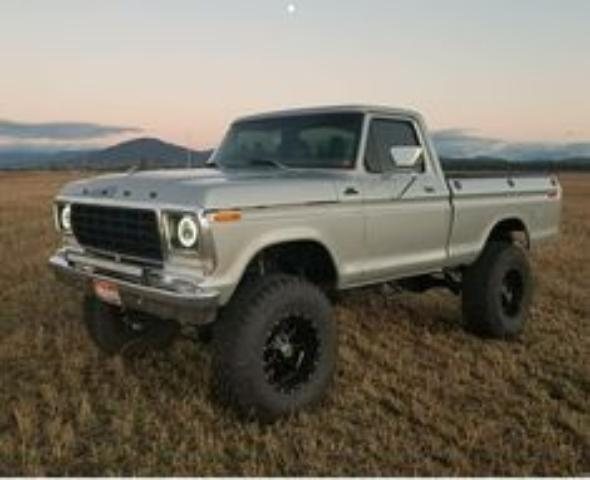pickup-truck: (48, 104, 565, 421)
